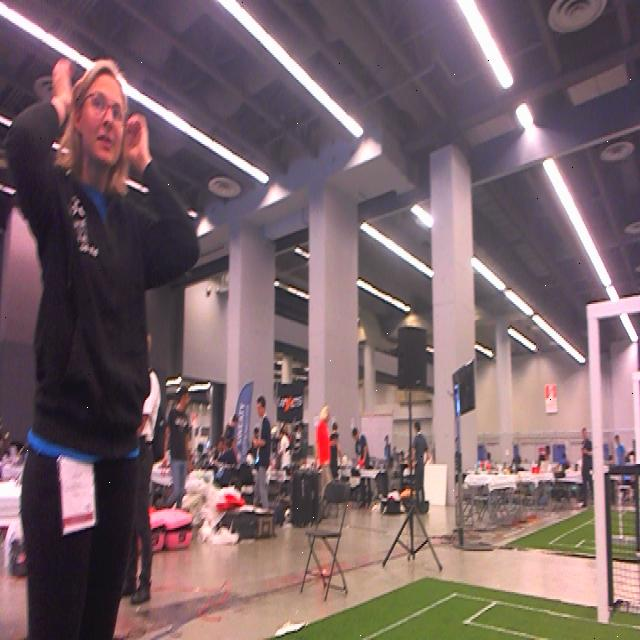goalpost: (584, 302, 608, 620)
